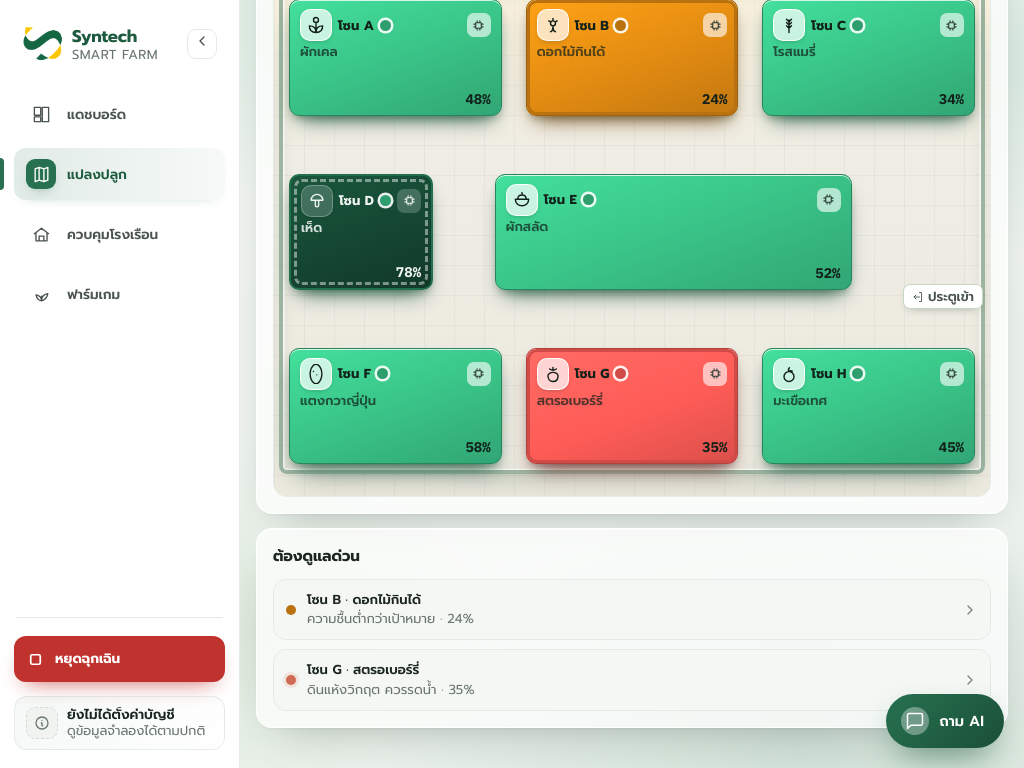
Test: IrrigationPage › Needs Attention (คำนวณจากดินจริง) กดแล้วเปิดลิ้นชักของโซนนั้น
This screenshot has width=1024, height=768.
(page scrolled)
Note: โซน G (สตรอว์เบอร์รี) ดินแห้ง → โผล่ในรายการ "ต้องดูแลด่วน" ที่คำนวณจากสถานะจริง
Click the button "โซน G · สตรอเบอร์รี่ ดินแห้งวิกฤต ควรรดน้ำ · 35%" at (324, 670), box [273,649,991,711]
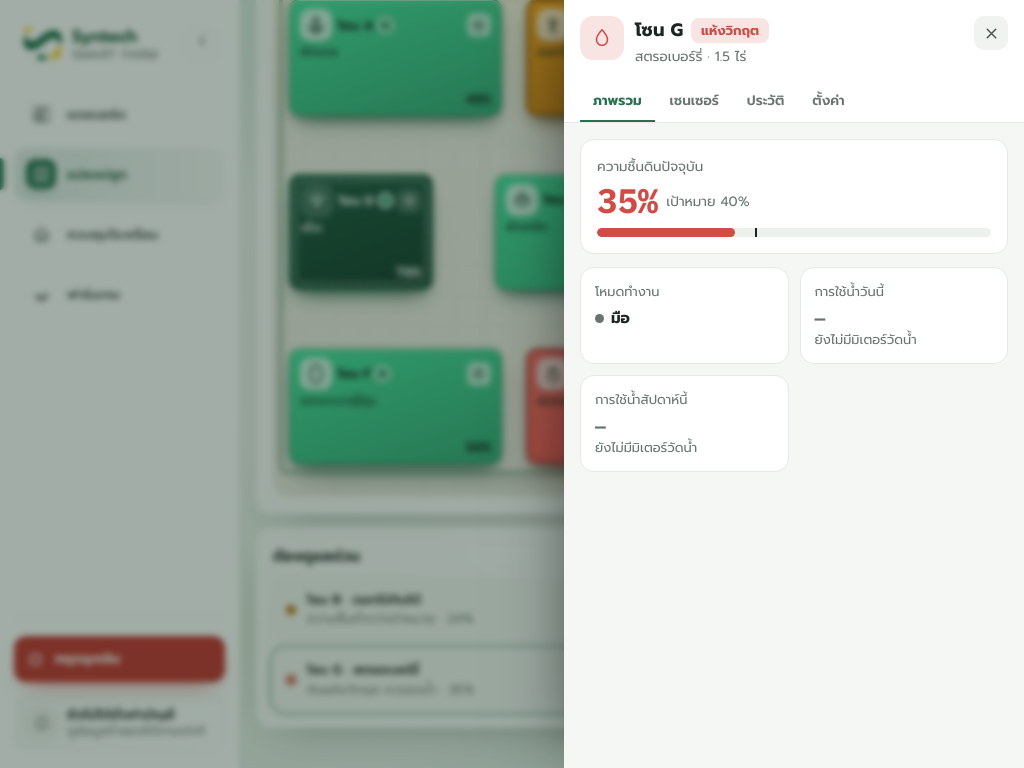
Expected: the text "สตรอเบอร์รี่ · 1.5 ไร่" is shown, [635,46,746,67]
